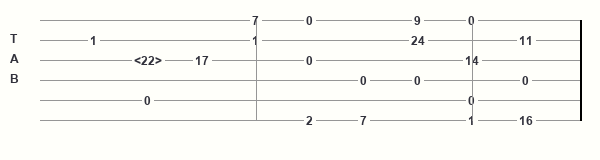0: (144, 94, 155, 107), (306, 54, 317, 67), (306, 14, 317, 27), (360, 74, 371, 87), (414, 74, 425, 87), (468, 14, 479, 27), (468, 94, 479, 107), (522, 74, 533, 87)
1: (90, 34, 101, 47), (252, 34, 263, 47), (468, 114, 479, 127)
11: (519, 34, 537, 47)
14: (465, 54, 483, 67)
16: (519, 114, 537, 127)
17: (195, 54, 213, 67)
2: (306, 114, 317, 127)
24: (411, 34, 429, 47)
7: (252, 14, 263, 27), (360, 114, 371, 127)
9: (414, 14, 425, 27)
harmonic: (134, 54, 166, 67)
